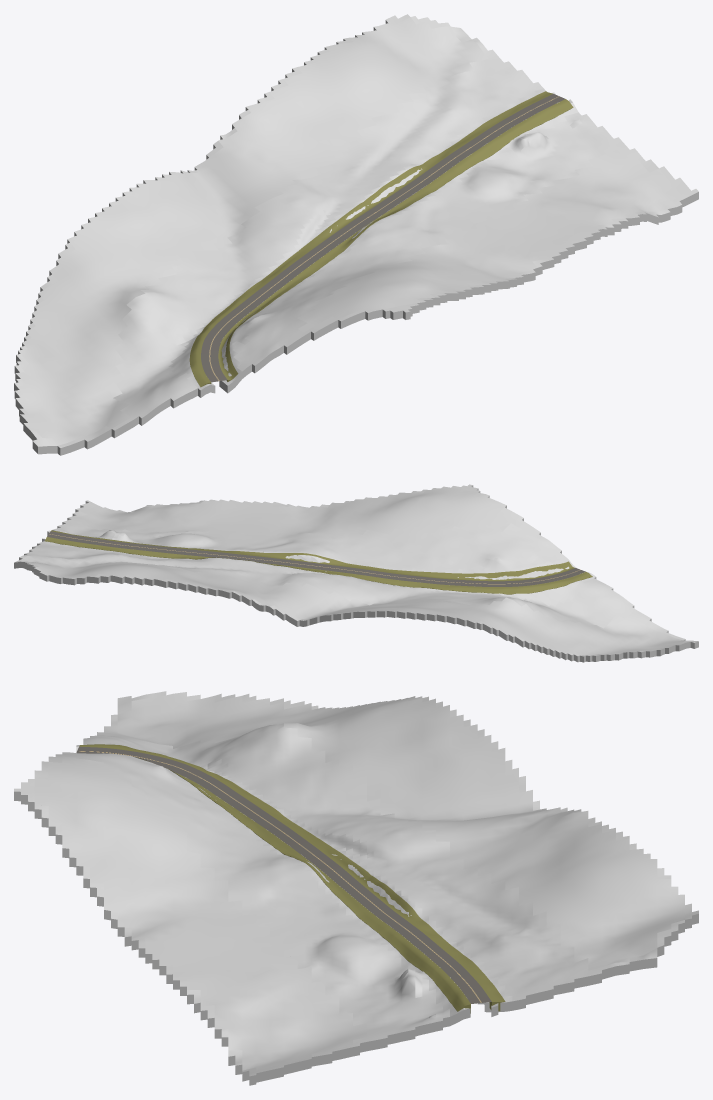
The model's file is conz_194.glb.
The picture shows the model from 3 angles, top to bottom: view 1: azimuth 30°, elevation 25°; view 2: azimuth 150°, elevation 25°; view 3: azimuth 270°, elevation 25°; orthographic projection. The views are drawn at different scales.
Parts seen in each view (by area): view 1: terrain194, road194, verge194R, verge194L; view 2: terrain194, road194, verge194L, verge194R, paint_yellow194; view 3: terrain194, road194, verge194L, verge194R.
Boxes of the visible parts, bbox=[...] form: terrain194: bbox=[14, 14, 698, 455]; road194: bbox=[201, 94, 564, 382]; verge194R: bbox=[218, 99, 573, 381]; verge194L: bbox=[189, 91, 552, 387]; terrain194: bbox=[14, 484, 698, 662]; road194: bbox=[47, 531, 585, 586]; verge194L: bbox=[44, 537, 592, 594]; verge194R: bbox=[51, 530, 574, 581]; paint_yellow194: bbox=[49, 534, 580, 584]; terrain194: bbox=[14, 691, 698, 1085]; road194: bbox=[76, 746, 491, 1003]; verge194L: bbox=[79, 744, 505, 1011]; verge194R: bbox=[133, 756, 470, 1013].
Size of the model in its own units: 294 by 50.38 by 198.
